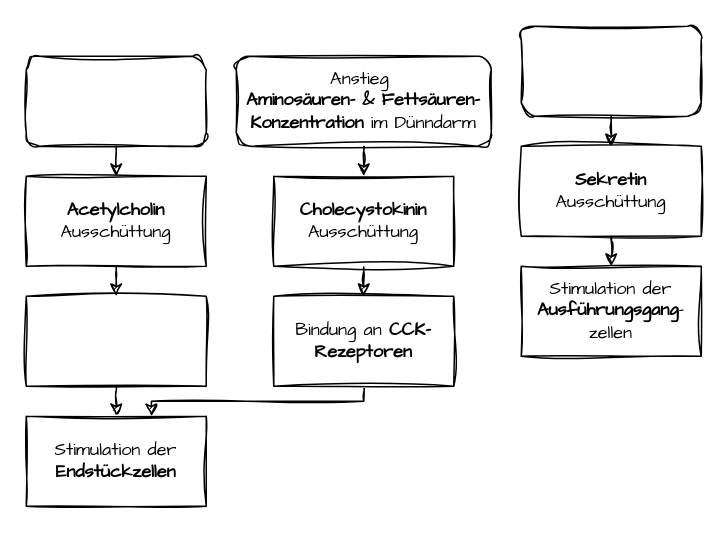
This 728x533 diagram has some shape labels left out. Each missing label, with the centre of its shape:
"Bindung an M 3 -Cholinorezeptoren" goes at (x=115, y=340).
"parasympathische Stimulation" goes at (x=115, y=100).
"pH-Abfall im Dünndarm" goes at (x=610, y=70).
